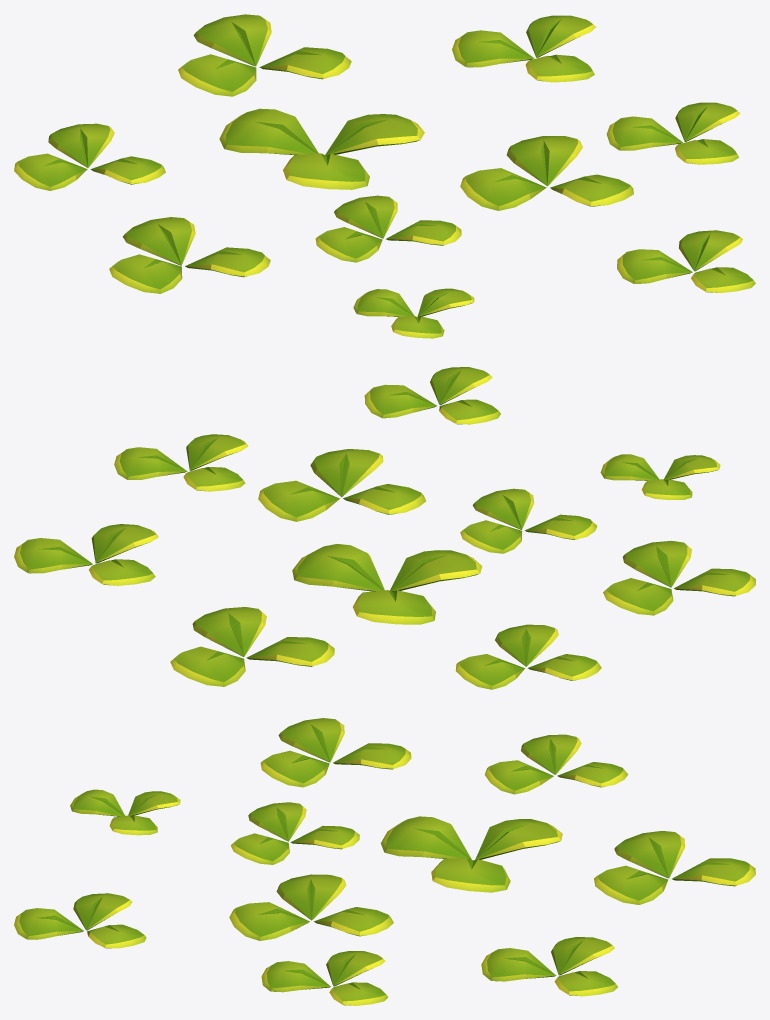
File: clover.glb
3 renders of one model, top to bottom at view 1: azimuth 30°, elevation 25°; view 2: azimuth 150°, elevation 25°; view 3: azimuth 270°, elevation 25°, orthographic. The views are drawn at different scales.
Parts seen in each view (by area): view 1: clover; view 2: clover; view 3: clover.
Boxes of the visible parts, x1=… form: clover: x1=14, y1=14, x2=755, y2=338; clover: x1=14, y1=367, x2=755, y2=689; clover: x1=14, y1=718, x2=755, y2=1005.
Size of the model in its own units: 2.32 by 0.0816 by 2.55.
1 material, 1 textured.
